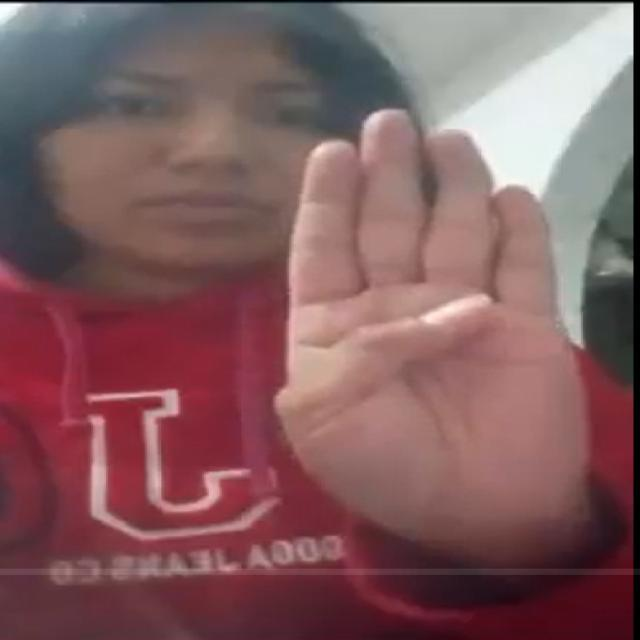B: (258, 97, 600, 548)
